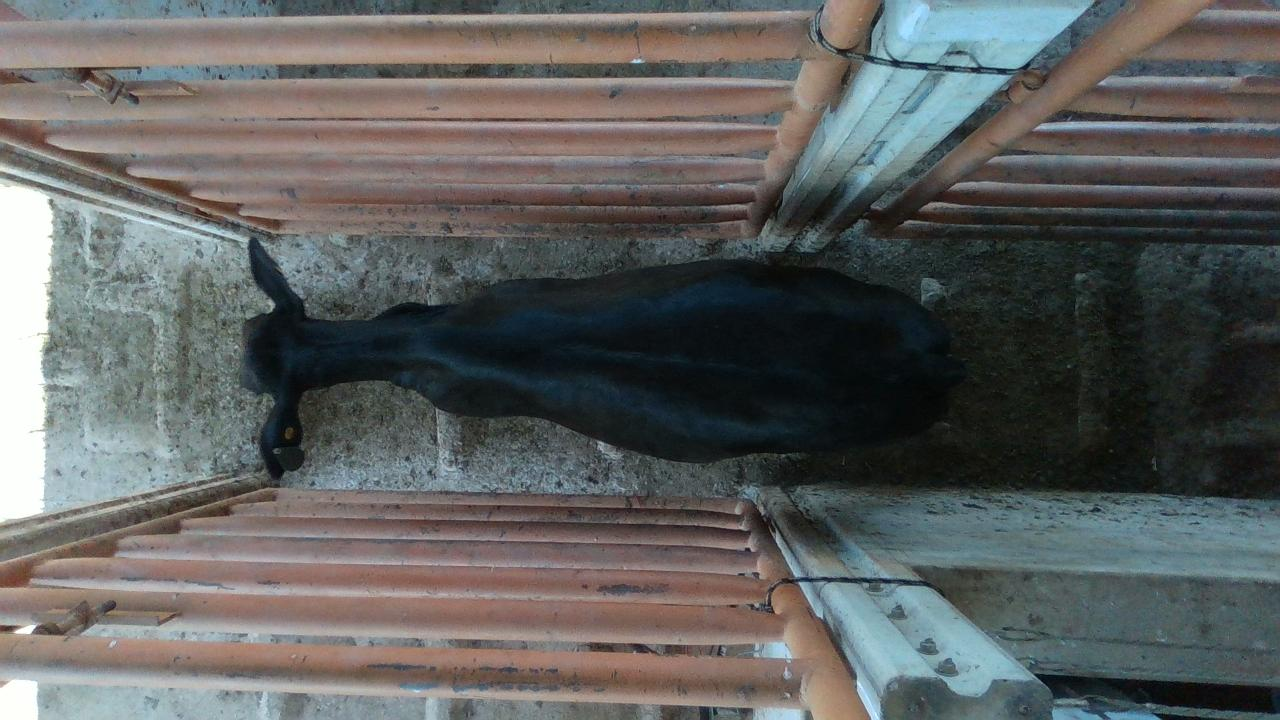cattle: (239, 235, 968, 479)
